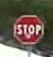stop: (11, 13, 44, 44)
